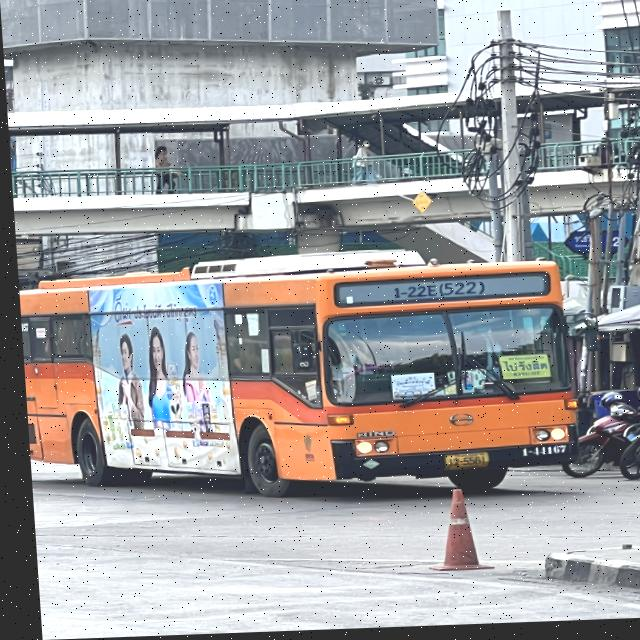BMTA-bus: (14, 249, 580, 512)
Bus-Line-Number: (383, 282, 487, 306)
Destination-Sign-Normal-Expressway: (495, 357, 546, 382)
